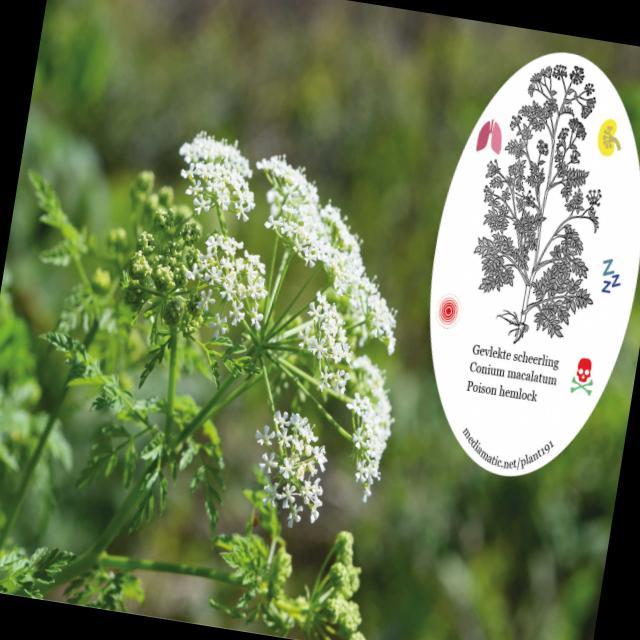Poisonous-Hemlock: (55, 108, 434, 640)
